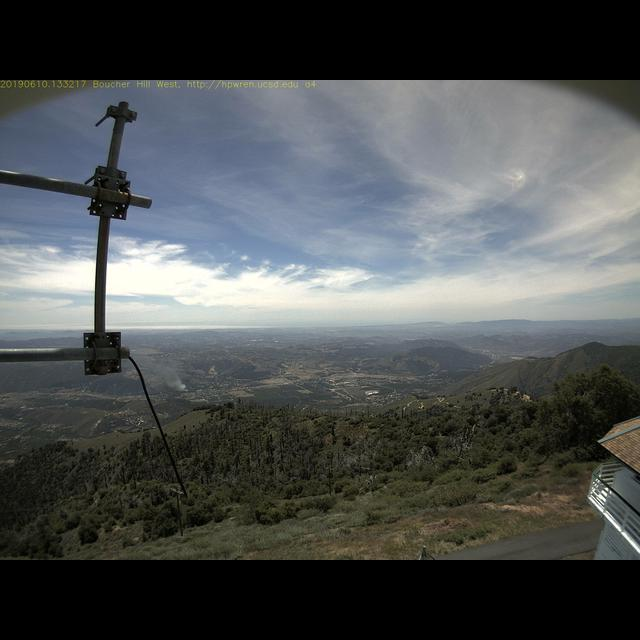Smoke: (137, 352, 187, 390)
